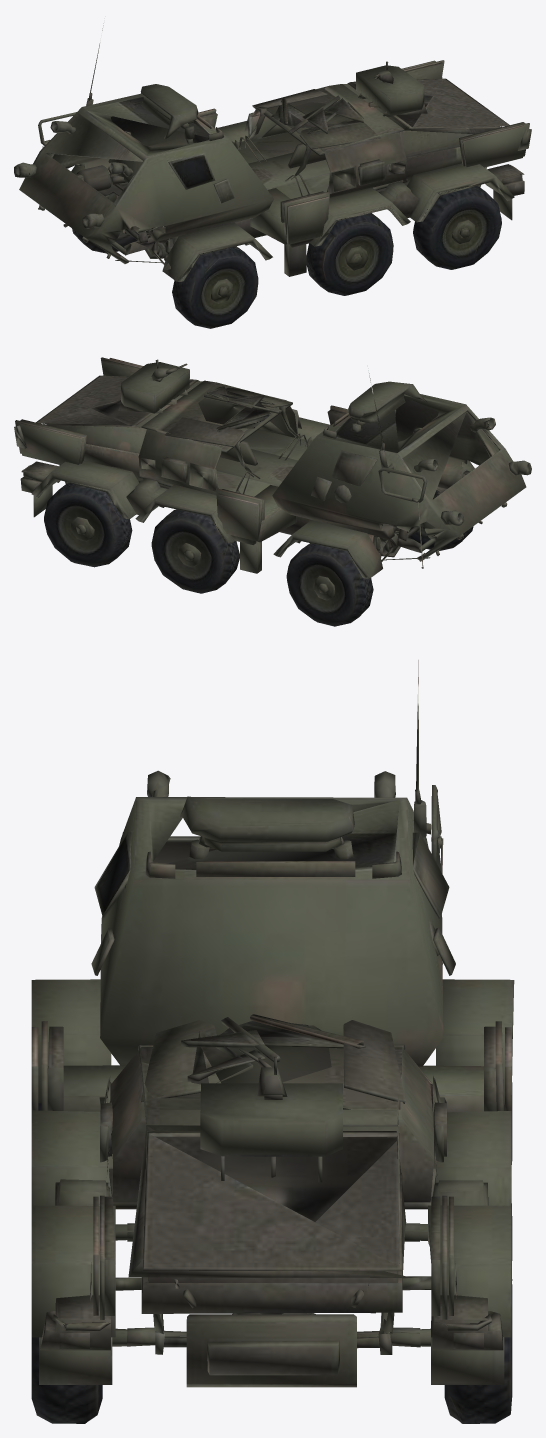
The model's file is prp_convoy_wreck.glb.
3 views of the same model, one above another, from view 1: azimuth 30°, elevation 25°; view 2: azimuth 150°, elevation 25°; view 3: azimuth 270°, elevation 25° (orthographic). The views are drawn at different scales.
Size of the model in its own units: 0.958 by 0.5259 by 0.458.
Materials: 1 (1 with a texture image).
